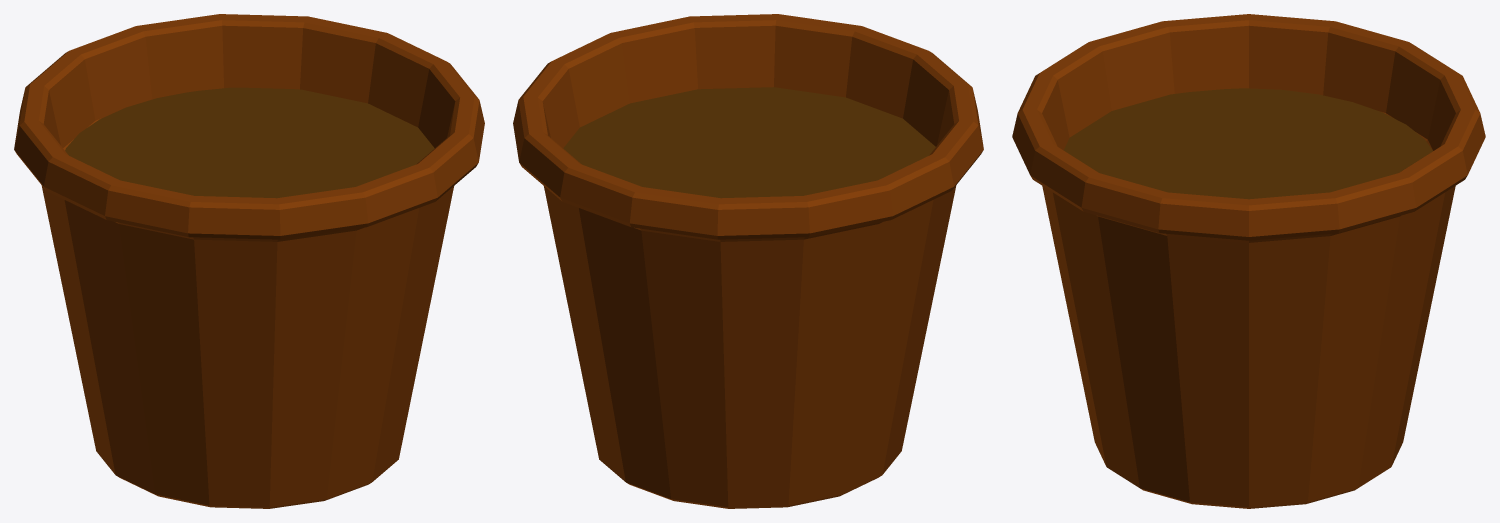
The model's file is Pot.fbx.
3 views of the same model, side by side, from view 1: azimuth 30°, elevation 25°; view 2: azimuth 150°, elevation 25°; view 3: azimuth 270°, elevation 25° (orthographic).
Visible parts, largest first — view 1: Cylinder.002; view 2: Cylinder.002; view 3: Cylinder.002.
Boxes of the visible parts, x1,y1,x2,y2 form: Cylinder.002: [14, 14, 484, 508]; Cylinder.002: [513, 14, 983, 508]; Cylinder.002: [1012, 14, 1485, 508].
Bounding box in the file's own units: 223 × 175 × 223.
